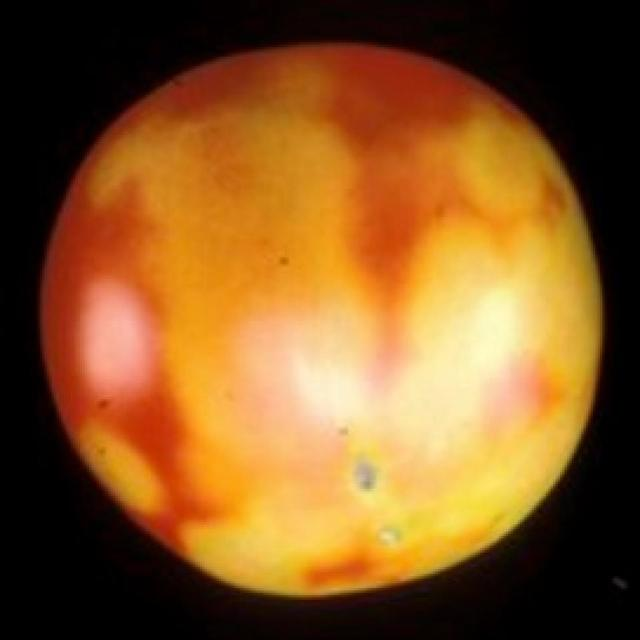Spotted wilt Virus Fruit: (38, 21, 66, 199)
